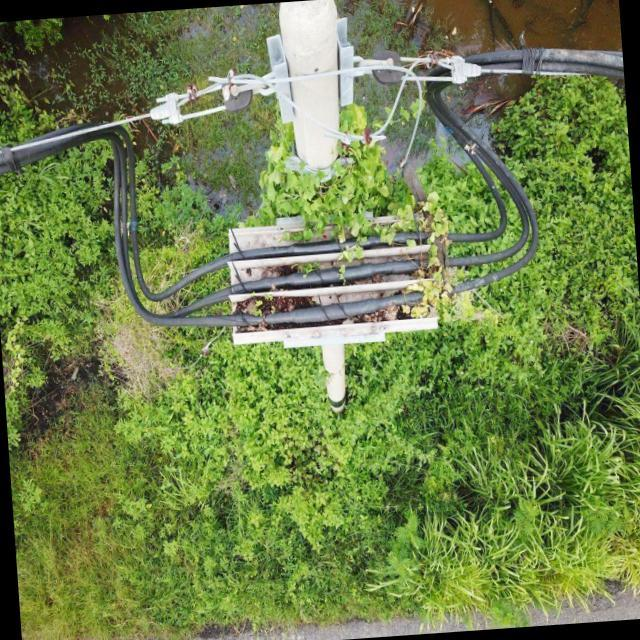critical vegetation: (228, 84, 452, 331)
